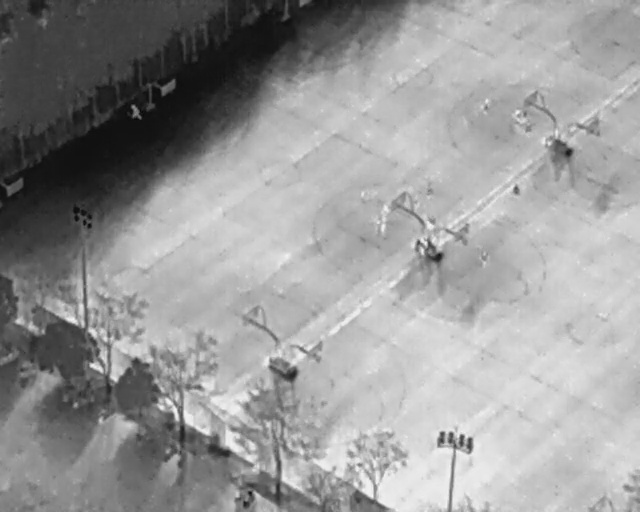Person: (125, 101, 146, 124), (414, 238, 427, 258), (480, 94, 491, 115), (479, 250, 490, 269), (424, 217, 437, 231), (379, 204, 391, 219), (425, 183, 435, 200), (358, 189, 369, 204), (543, 135, 555, 148), (379, 217, 388, 233), (513, 109, 523, 122)
